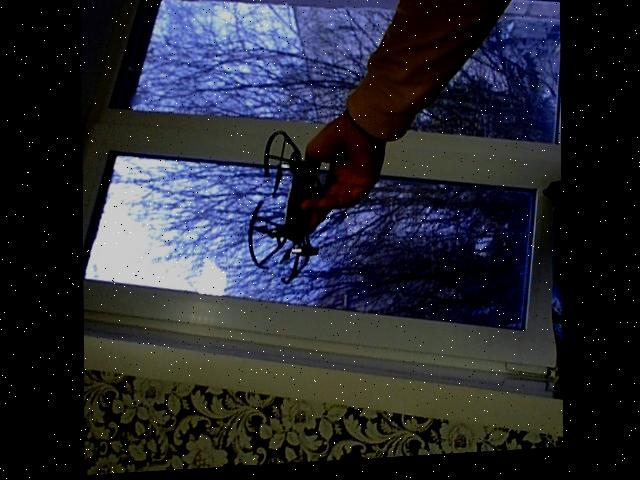drone: (242, 125, 330, 296)
